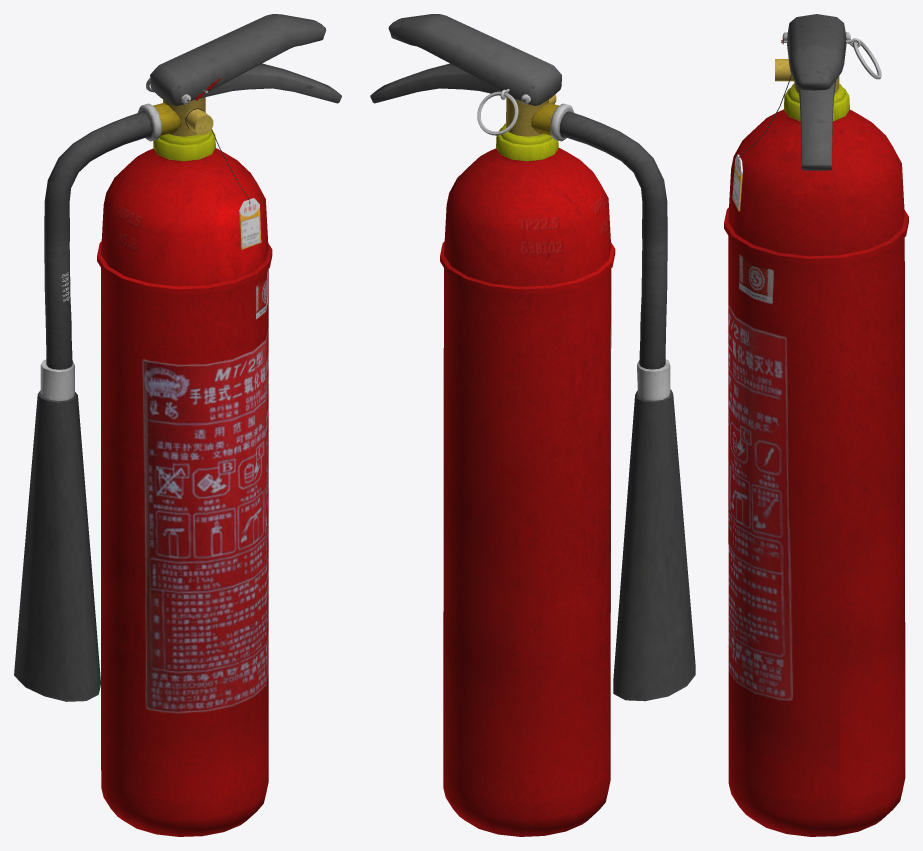
Rendered from HJ_MKTS_017.FBX.
3 renders of one model, left to right at view 1: azimuth 30°, elevation 25°; view 2: azimuth 150°, elevation 25°; view 3: azimuth 270°, elevation 25°, orthographic. The views are drawn at different scales.
Visible parts, largest first — view 1: JYZ_WM_224_05, JYZ_WM_224_04, JYZ_WM_224_03, JYZ_WM_224_006; view 2: JYZ_WM_224_05, JYZ_WM_224_04, JYZ_WM_224_03; view 3: JYZ_WM_224_05, JYZ_WM_224_03, JYZ_WM_224_006, JYZ_WM_224_02.
Boxes of the visible parts, x1,y1,x2,y2 form: JYZ_WM_224_05: [97, 63, 341, 836]; JYZ_WM_224_04: [14, 111, 151, 701]; JYZ_WM_224_03: [150, 14, 326, 105]; JYZ_WM_224_006: [185, 108, 261, 249]; JYZ_WM_224_05: [370, 63, 615, 836]; JYZ_WM_224_04: [560, 111, 695, 701]; JYZ_WM_224_03: [388, 14, 561, 105]; JYZ_WM_224_05: [724, 32, 908, 836]; JYZ_WM_224_03: [787, 14, 846, 90]; JYZ_WM_224_006: [732, 74, 791, 211]; JYZ_WM_224_02: [781, 38, 881, 79].
Bounding box in the file's own units: 0.2269 × 0.5378 × 0.1112.
Materials: 1 (1 with a texture image).
